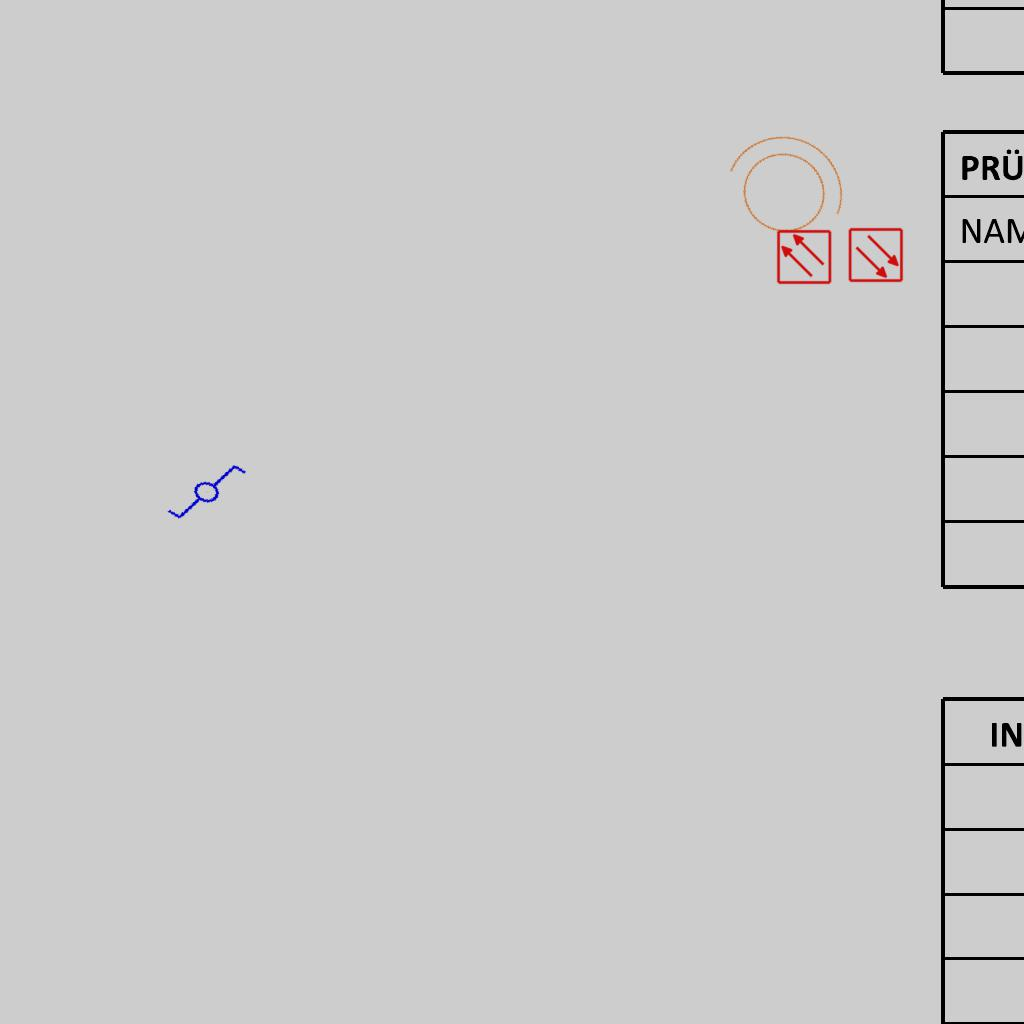RMO_Rauchmelder_optischer: (848, 227, 904, 283), (776, 229, 832, 285)
Scheinwerfer_fuer_Alarmbeleuchtung: (700, 110, 866, 264)
Wechselschalter: (156, 445, 250, 535)
